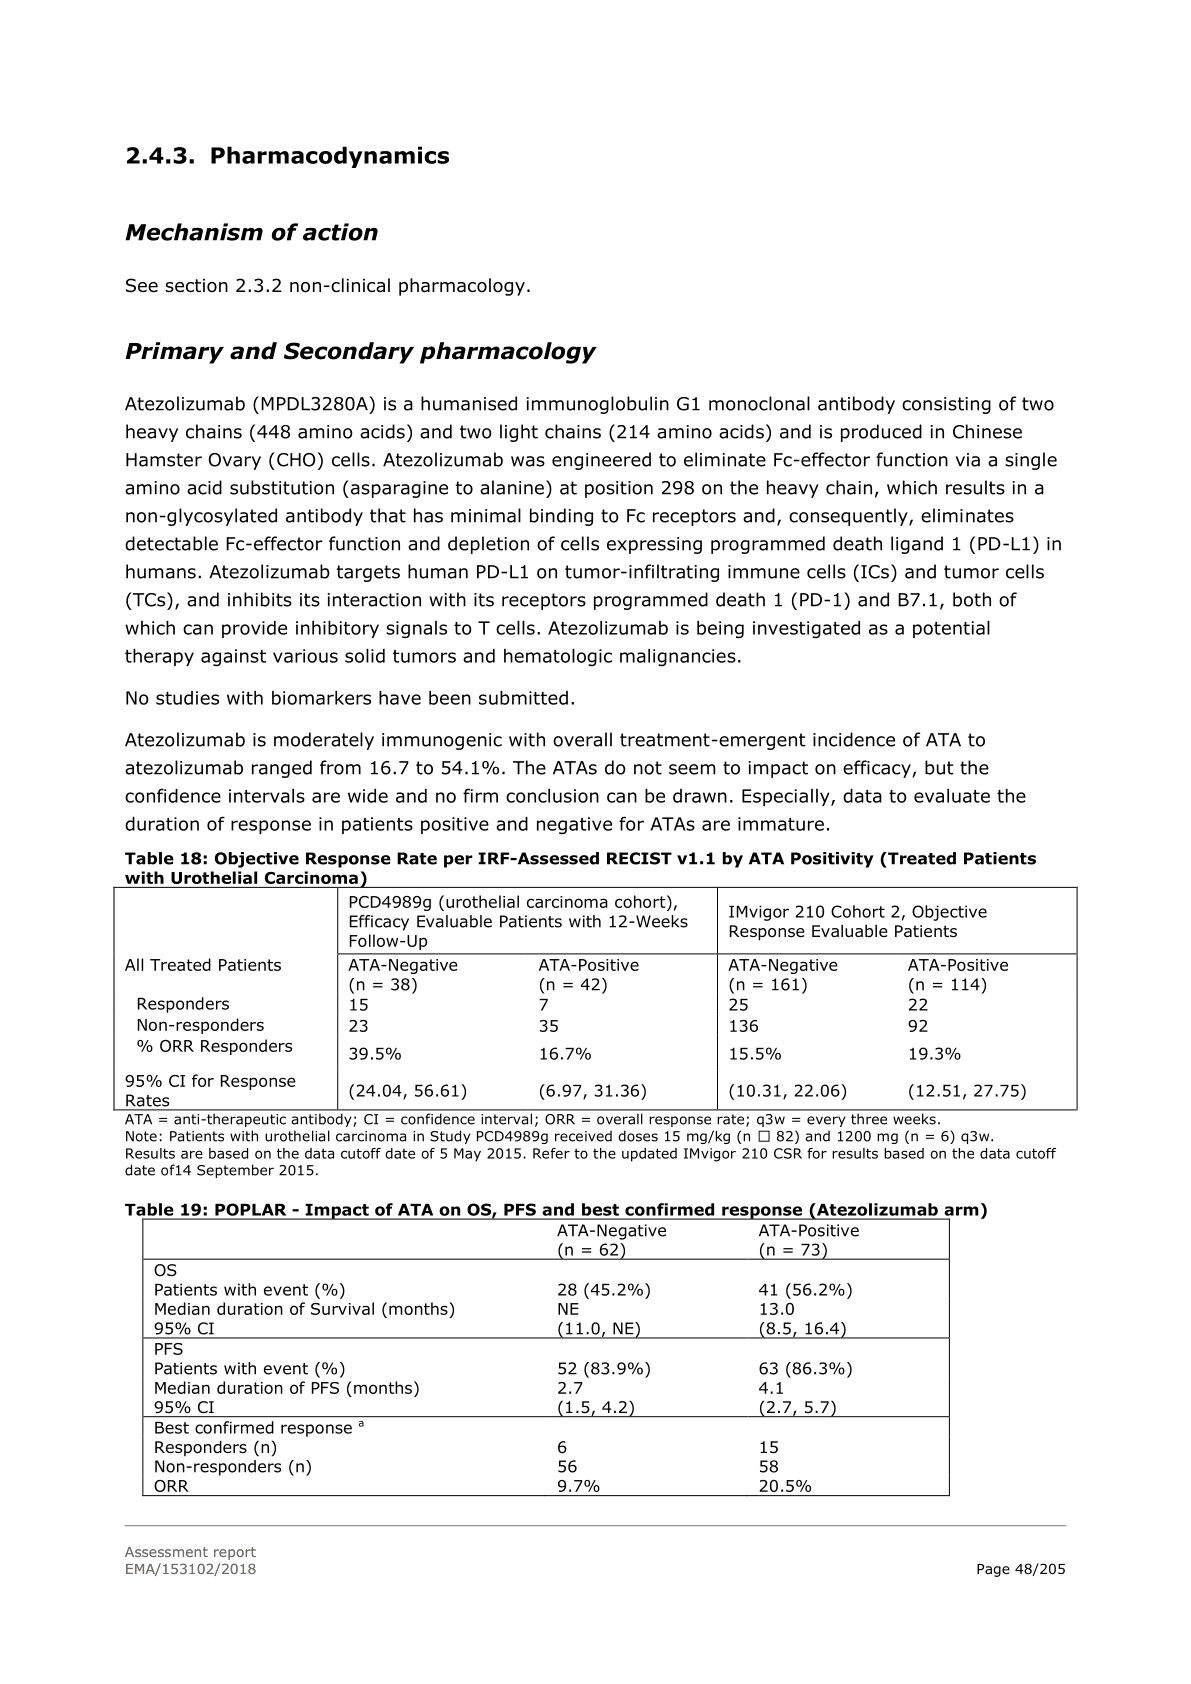partial_lined: (142, 1218, 951, 1496)
partial_lined_merged_cells: (112, 886, 1078, 1111)
